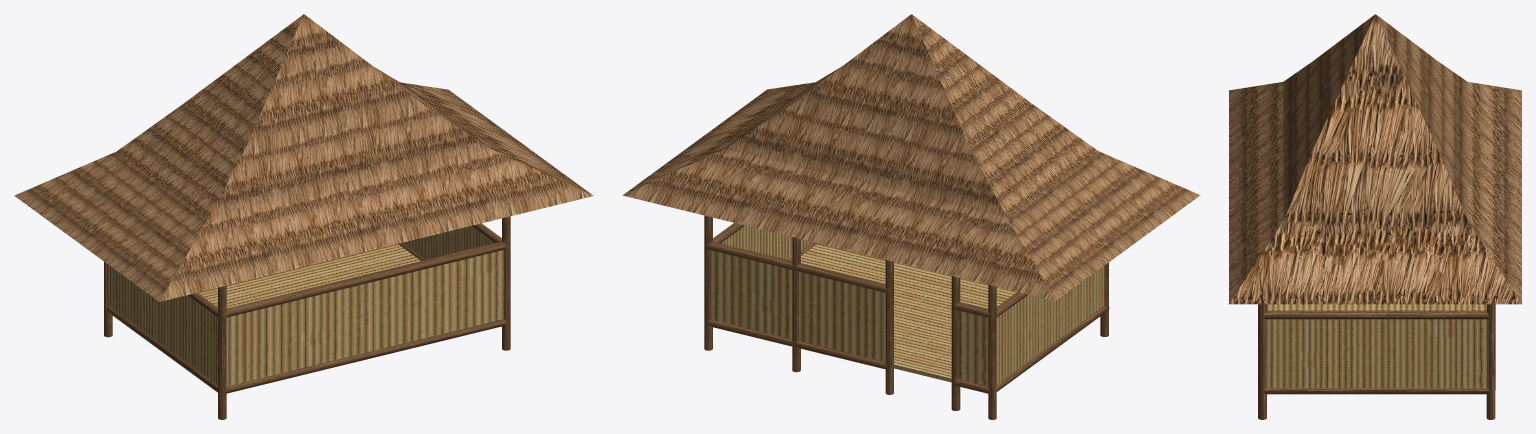
Rendered from kusina.fbx.
3 renders of one model, left to right at view 1: azimuth 30°, elevation 25°; view 2: azimuth 150°, elevation 25°; view 3: azimuth 270°, elevation 25°, orthographic.
Visible parts, largest first — view 1: Cube.013, Cube.010, Cube.009, Cube.012, Cylinder.027, Cylinder.029, Cube.008, Cylinder.025, Cylinder.022, Cylinder.031; view 2: Cube.013, Cube.011, Cube.012, Cube.009, Cylinder.035, Cube.008, Cylinder.038, Cylinder.024, Cylinder.033, Cylinder.032, Cylinder.023, Cylinder.034 (+1 smaller); view 3: Cube.013, Cube.008, Cylinder.026, Cylinder.028, Cube.012, Cylinder.023, Cylinder.022.
Part boxes in pixels (x1,y1,x2,y2): Cube.013: [14, 14, 593, 301]; Cube.010: [226, 250, 503, 386]; Cube.009: [109, 266, 217, 384]; Cube.012: [198, 244, 420, 308]; Cylinder.027: [223, 241, 505, 317]; Cylinder.029: [223, 319, 506, 393]; Cube.008: [403, 226, 493, 259]; Cylinder.025: [218, 285, 226, 419]; Cylinder.022: [502, 216, 510, 350]; Cylinder.031: [106, 306, 219, 392]; Cube.013: [622, 14, 1200, 301]; Cube.011: [711, 250, 996, 391]; Cube.012: [801, 243, 1016, 382]; Cube.009: [997, 266, 1104, 383]; Cylinder.035: [707, 241, 886, 292]; Cube.008: [721, 225, 812, 259]; Cylinder.038: [707, 319, 886, 369]; Cylinder.024: [988, 285, 996, 419]; Cylinder.033: [885, 260, 893, 394]; Cylinder.032: [951, 276, 960, 410]; Cylinder.023: [704, 215, 712, 350]; Cylinder.034: [792, 237, 800, 372]; Cube.013: [1229, 14, 1521, 304]; Cube.008: [1265, 319, 1487, 388]; Cylinder.026: [1261, 310, 1489, 319]; Cylinder.028: [1261, 388, 1489, 394]; Cube.012: [1267, 304, 1486, 310]; Cylinder.023: [1486, 304, 1495, 419]; Cylinder.022: [1258, 304, 1266, 419].
Size of the model in its own units: 6.88 by 3.98 by 4.99.
